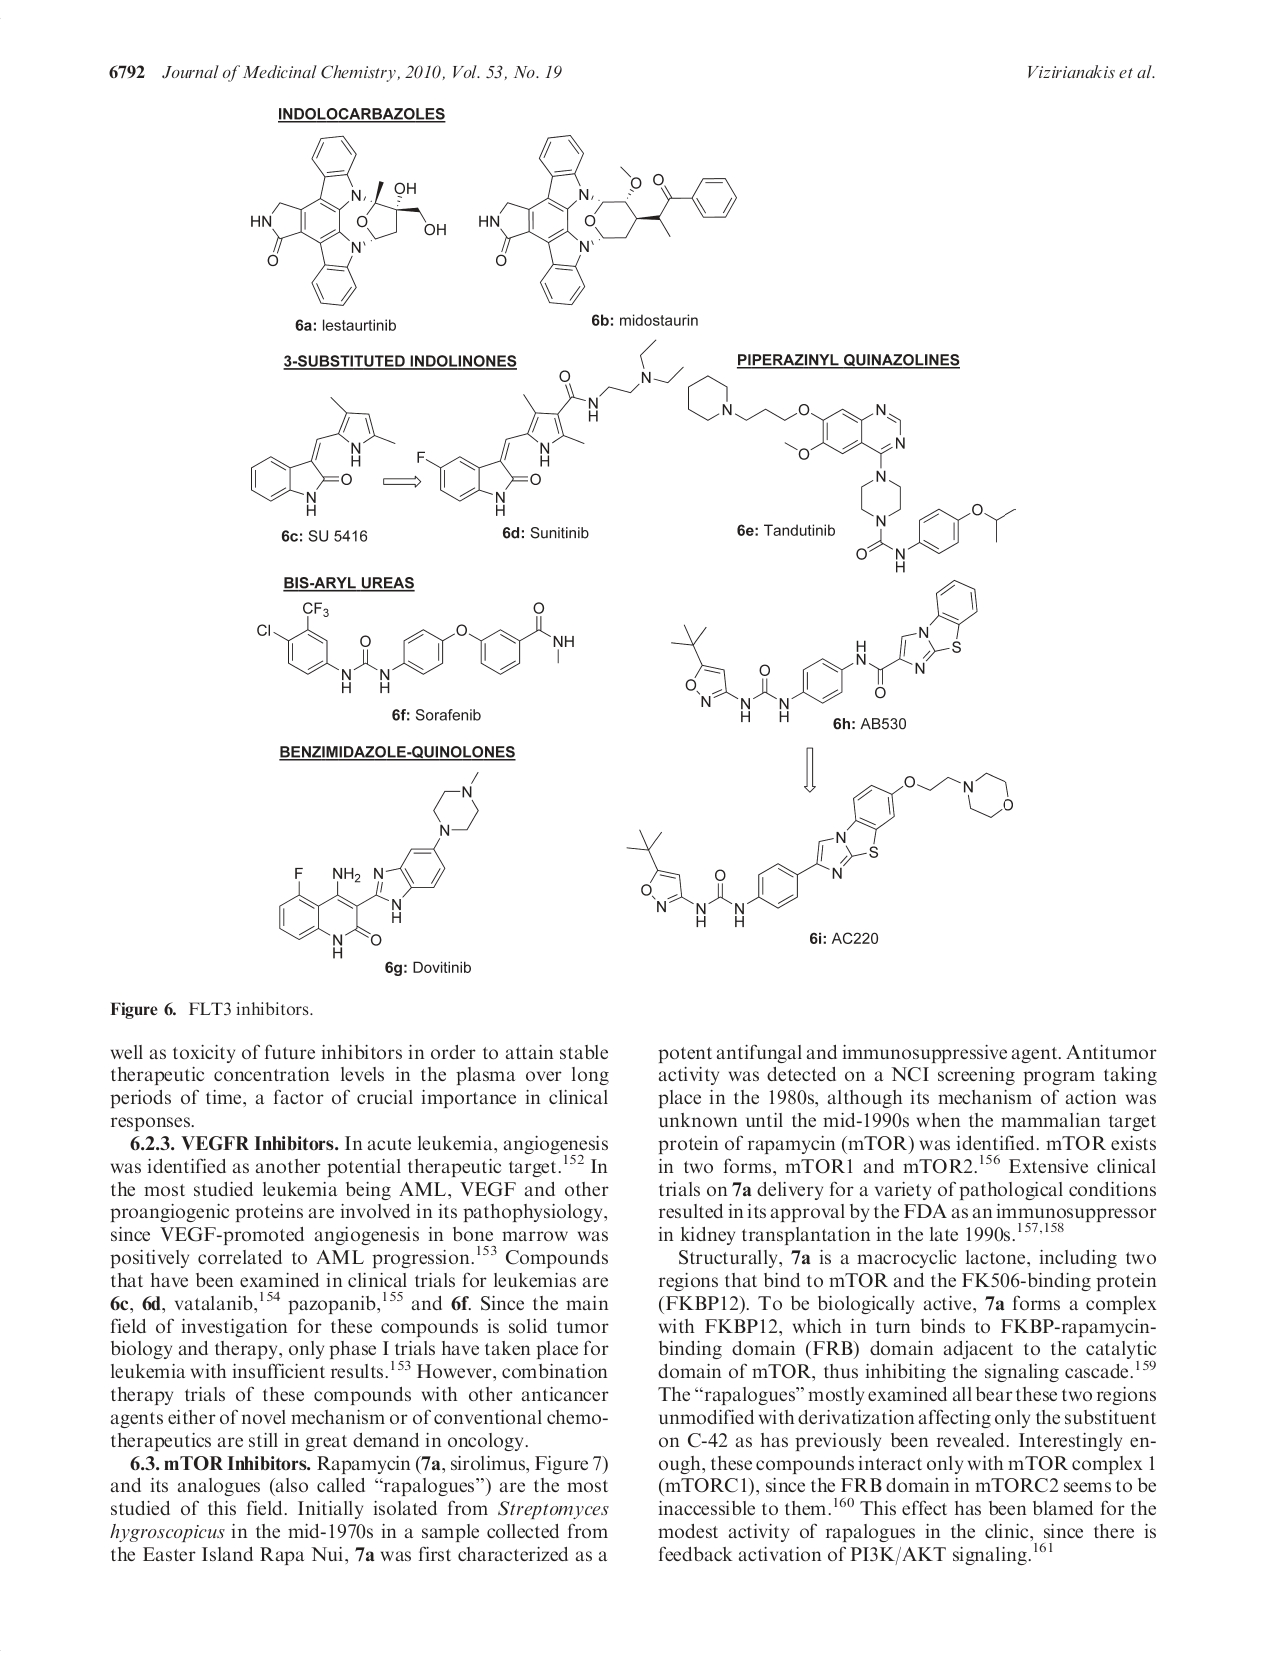exist_molecular: (681, 368, 1016, 580), (625, 765, 1020, 930), (410, 338, 685, 527), (467, 132, 739, 310), (668, 577, 981, 726), (273, 765, 483, 958), (247, 132, 448, 309), (255, 594, 585, 700), (246, 391, 402, 521)
